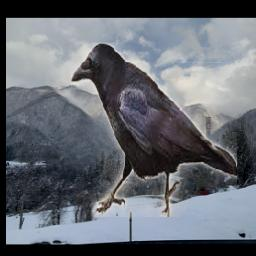Crow: (70, 43, 237, 218)
